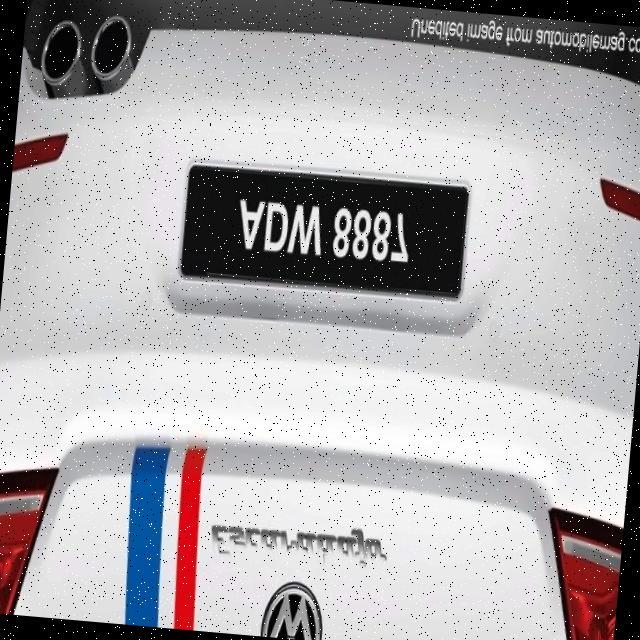License_Plate: (178, 159, 472, 305)
